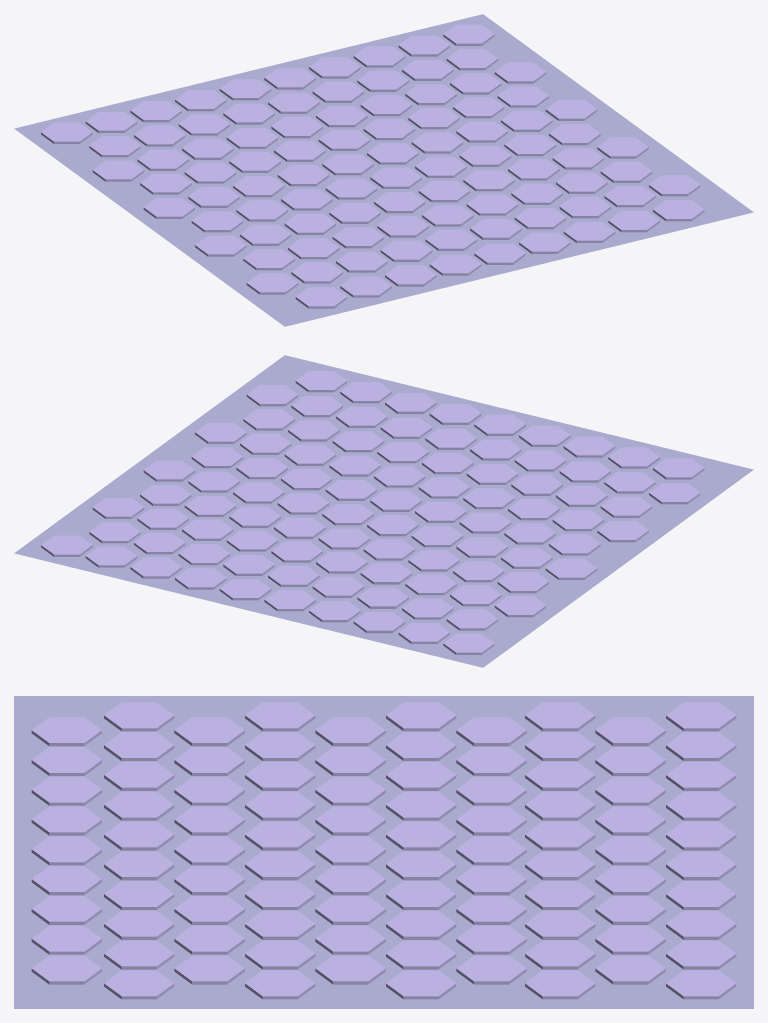
File: board.fbx
3 renders of one model, top to bottom at view 1: azimuth 30°, elevation 25°; view 2: azimuth 150°, elevation 25°; view 3: azimuth 270°, elevation 25°, orthographic. The views are drawn at different scales.
Visible parts, largest first — view 1: Board|Plane.001|Dupli|3, Board|A3.013|Dupli|16, Board|A3.003|Dupli|6, Board|A3.011|Dupli|14, Board|A3.026|Dupli|29, Board|A3.031|Dupli|34, Board|A3.037|Dupli|40, Board|A3.062|Dupli|65, Board|A3.068|Dupli|71, Board|A3.070|Dupli|73, Board|A3.077|Dupli|80, Board|A3.086|Dupli|89 (+84 smaller); view 2: Board|Plane.001|Dupli|3, Board|A3.014|Dupli|17, Board|A3.027|Dupli|30, Board|A3.035|Dupli|38, Board|A3.049|Dupli|52, Board|A3|Dupli|2, Board|A3.026|Dupli|29, Board|A3.041|Dupli|44, Board|A3.057|Dupli|60, Board|A3.061|Dupli|64, Board|A3.077|Dupli|80, Board|A3.079|Dupli|82 (+84 smaller); view 3: Board|Plane.001|Dupli|3, Board|A3.001|Dupli|4, Board|A3.012|Dupli|15, Board|A3.021|Dupli|24, Board|A3.042|Dupli|45, Board|A3.054|Dupli|57, Board|A3.058|Dupli|61, Board|A3.060|Dupli|63, Board|A3.069|Dupli|72, Board|A3.078|Dupli|81, Board|A3.090|Dupli|93, Board|A3.003|Dupli|6 (+84 smaller).
Part boxes in pixels (x1=…): Board|Plane.001|Dupli|3: x1=14, y1=14, x2=753, y2=326; Board|A3.013|Dupli|16: x1=312, y1=81, x2=364, y2=102; Board|A3.003|Dupli|6: x1=219, y1=79, x2=271, y2=100; Board|A3.011|Dupli|14: x1=446, y1=49, x2=498, y2=70; Board|A3.026|Dupli|29: x1=92, y1=160, x2=144, y2=181; Board|A3.031|Dupli|34: x1=545, y1=99, x2=597, y2=120; Board|A3.037|Dupli|40: x1=184, y1=162, x2=236, y2=183; Board|A3.062|Dupli|65: x1=191, y1=211, x2=243, y2=232; Board|A3.068|Dupli|71: x1=600, y1=161, x2=652, y2=182; Board|A3.070|Dupli|73: x1=466, y1=194, x2=518, y2=215; Board|A3.077|Dupli|80: x1=514, y1=208, x2=566, y2=229; Board|A3.086|Dupli|89: x1=429, y1=254, x2=481, y2=275; Board|Plane.001|Dupli|3: x1=14, y1=355, x2=753, y2=667; Board|A3.014|Dupli|17: x1=312, y1=576, x2=364, y2=597; Board|A3.027|Dupli|30: x1=545, y1=558, x2=597, y2=579; Board|A3.035|Dupli|38: x1=411, y1=526, x2=463, y2=547; Board|A3.049|Dupli|52: x1=552, y1=510, x2=604, y2=531; Board|A3|Dupli|2: x1=353, y1=612, x2=405, y2=633; Board|A3.026|Dupli|29: x1=494, y1=596, x2=546, y2=617; Board|A3.041|Dupli|44: x1=318, y1=528, x2=370, y2=549; Board|A3.057|Dupli|60: x1=459, y1=512, x2=511, y2=533; Board|A3.061|Dupli|64: x1=191, y1=447, x2=243, y2=468; Board|A3.077|Dupli|80: x1=380, y1=417, x2=432, y2=438; Board|A3.079|Dupli|82: x1=246, y1=385, x2=298, y2=406; Board|Plane.001|Dupli|3: x1=14, y1=696, x2=753, y2=1008; Board|A3.001|Dupli|4: x1=666, y1=791, x2=736, y2=820; Board|A3.012|Dupli|15: x1=595, y1=836, x2=665, y2=865; Board|A3.021|Dupli|24: x1=525, y1=851, x2=595, y2=880; Board|A3.042|Dupli|45: x1=456, y1=955, x2=526, y2=984; Board|A3.054|Dupli|57: x1=245, y1=791, x2=315, y2=820; Board|A3.058|Dupli|61: x1=315, y1=806, x2=385, y2=835; Board|A3.060|Dupli|63: x1=315, y1=836, x2=385, y2=865; Board|A3.069|Dupli|72: x1=174, y1=836, x2=244, y2=865; Board|A3.078|Dupli|81: x1=104, y1=851, x2=174, y2=880; Board|A3.090|Dupli|93: x1=31, y1=717, x2=101, y2=746; Board|A3.003|Dupli|6: x1=666, y1=821, x2=736, y2=850.
Size of the model in its own units: 2100 by 20 by 2100.
